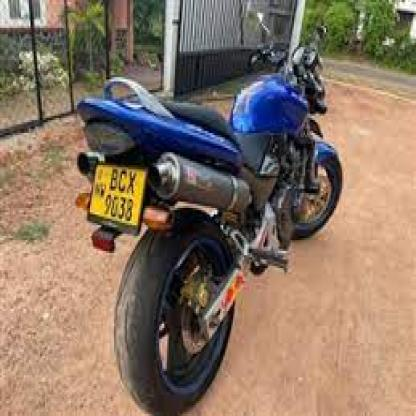bike back: (63, 15, 343, 416)
number plate: (101, 163, 140, 223)
